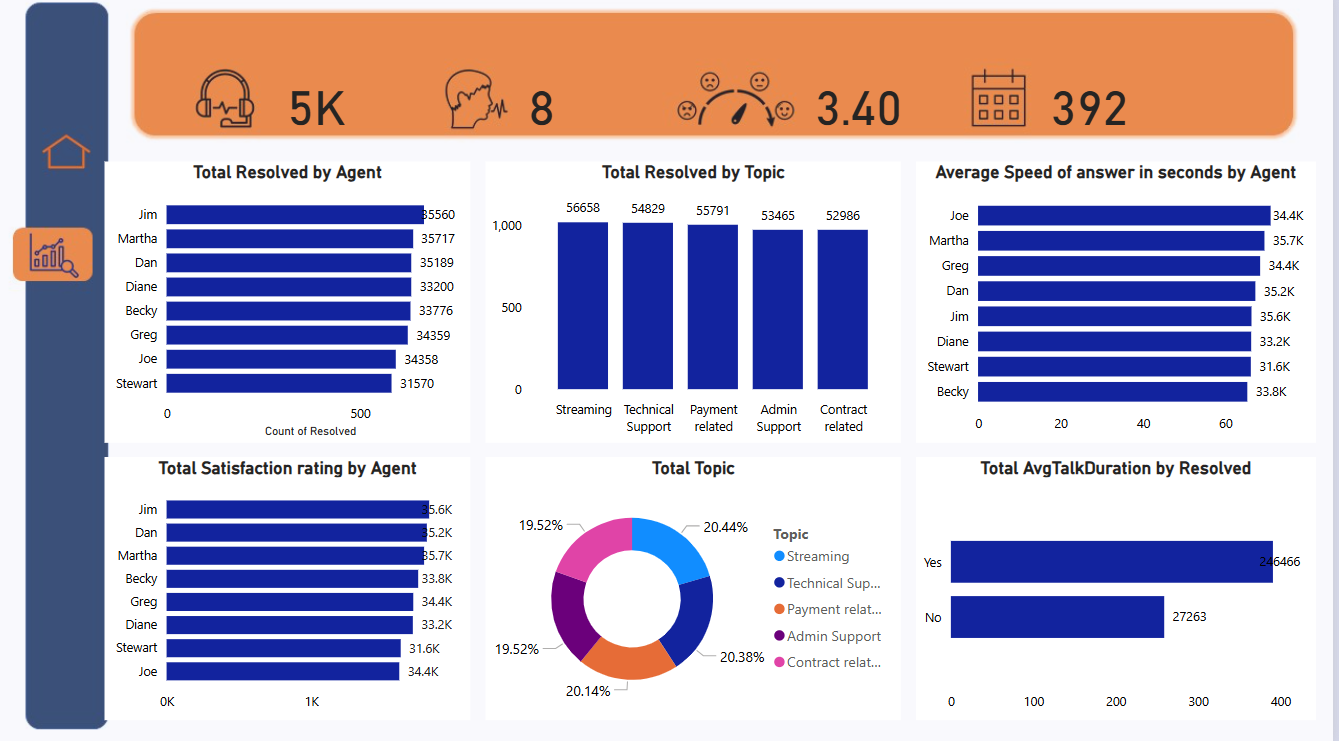

What the dashboard file says about the page in this screenshot:
{"tool":"powerbi","page":{"name":"Page 1","canvas":[1280,720],"ordinal":0},"visuals":[{"type":"barChart","title":"Total Resolved by Agent","fields":{"Category":["Call  center Analysis.Agent"],"Y":["Call  center Analysis.Resolved"]},"box":[107.7,162.5,349.6,268.3],"z":0},{"type":"barChart","title":"Average Speed of answer in seconds by Agent","fields":{"Category":["Call  center Analysis.Agent"],"Y":["Call  center Analysis.Speed of answer in seconds"]},"box":[882.5,162.5,381.7,268.3],"z":1000},{"type":"clusteredBarChart","title":"Total Satisfaction rating by Agent","fields":{"Category":["Call  center Analysis.Agent"],"Y":["Call  center Analysis.Satisfaction rating"]},"box":[107.7,444.1,349.6,251.3],"z":2000},{"type":"donutChart","title":"Total Topic","fields":{"Y":["Call  center Analysis.Topic"],"Category":["Call  center Analysis.Topic"]},"box":[470.6,444.1,396.9,251.3],"z":3000},{"type":"columnChart","title":"Total Resolved by Topic","fields":{"Y":["Call  center Analysis.Resolved"],"Category":["Call  center Analysis.Topic"]},"box":[470.6,162.5,396.9,268.3],"z":4000},{"type":"barChart","title":"Total AvgTalkDuration by Resolved","fields":{"Y":["Call  center Analysis.AvgTalkDuration"],"Category":["Call  center Analysis.Resolved"]},"box":[882.5,444.1,381.7,251.3],"z":5000},{"type":"cardVisual","fields":{"Data":["Call  center Analysis.Call Id"]},"box":[262.9,58.1,143.5,79],"z":6000},{"type":"cardVisual","fields":{"Data":["Call  center Analysis.Agent"]},"box":[495.2,58.1,145.2,79],"z":7000},{"type":"cardVisual","fields":{"Data":["Call  center Analysis.Satisfaction rating"]},"box":[769.4,58.1,158.1,79],"z":8000},{"type":"cardVisual","fields":{"Data":["Call  center Analysis.AvgTalkDuration"]},"box":[993.5,58.1,138.7,79],"z":9000}]}

Visuals, with their boxes on the page's 1280x720 design canvas (x1, y1, x2, y2). These are canvas units, not pixel positions in the 1339x741 screenshot, which may show the page scaled, cropped or inside an application window:
"Total Resolved by Agent" barChart: BBox(108, 162, 457, 431)
"Average Speed of answer in seconds by Agent" barChart: BBox(882, 162, 1264, 431)
"Total Satisfaction rating by Agent" clusteredBarChart: BBox(108, 444, 457, 695)
"Total Topic" donutChart: BBox(471, 444, 868, 695)
"Total Resolved by Topic" columnChart: BBox(471, 162, 868, 431)
"Total AvgTalkDuration by Resolved" barChart: BBox(882, 444, 1264, 695)
cardVisual - Call  center Analysis.Call Id: BBox(263, 58, 406, 137)
cardVisual - Call  center Analysis.Agent: BBox(495, 58, 640, 137)
cardVisual - Call  center Analysis.Satisfaction rating: BBox(769, 58, 928, 137)
cardVisual - Call  center Analysis.AvgTalkDuration: BBox(994, 58, 1132, 137)
